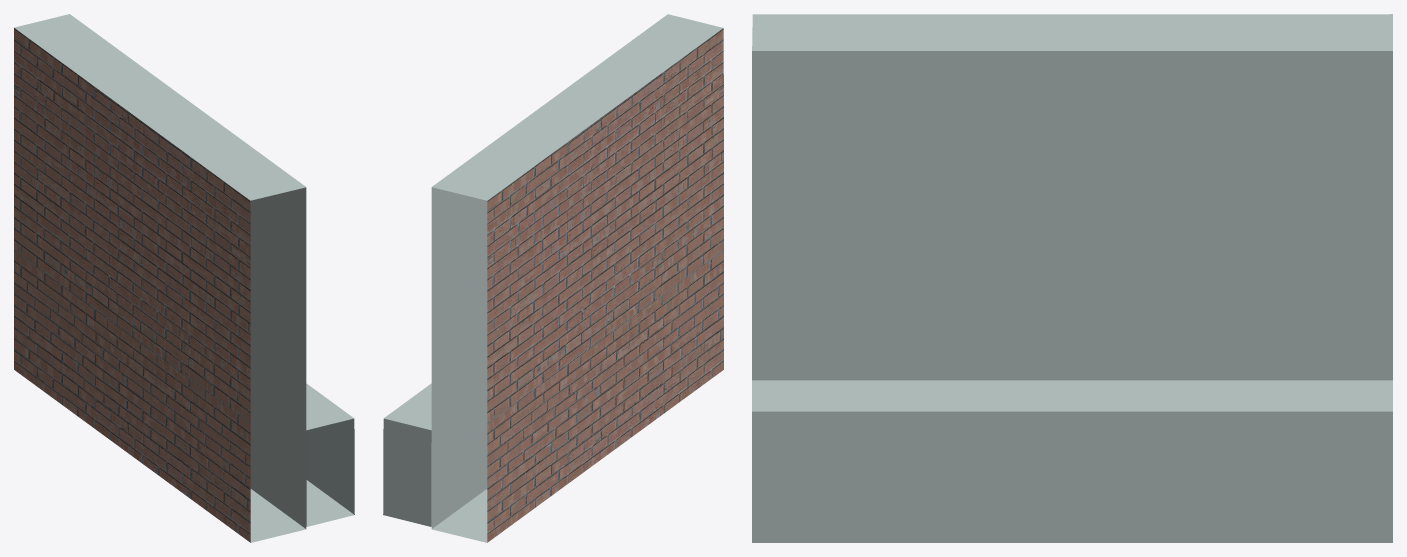
The model's file is PareteCucinaFondo.dae.
The picture shows the model from 3 angles, left to right: view 1: azimuth 30°, elevation 25°; view 2: azimuth 150°, elevation 25°; view 3: azimuth 270°, elevation 25°; orthographic projection. The views are drawn at different scales.
Visible parts, largest first — view 1: PareteSinistra_001; view 2: PareteSinistra_001; view 3: PareteSinistra_001.
Boxes of the visible parts, box(x1,y1,x2,y2) form: PareteSinistra_001: box(14, 14, 354, 542); PareteSinistra_001: box(383, 14, 723, 542); PareteSinistra_001: box(752, 14, 1392, 542).
Bounding box in the file's own units: 0.7323 × 2.88 × 2.3.
